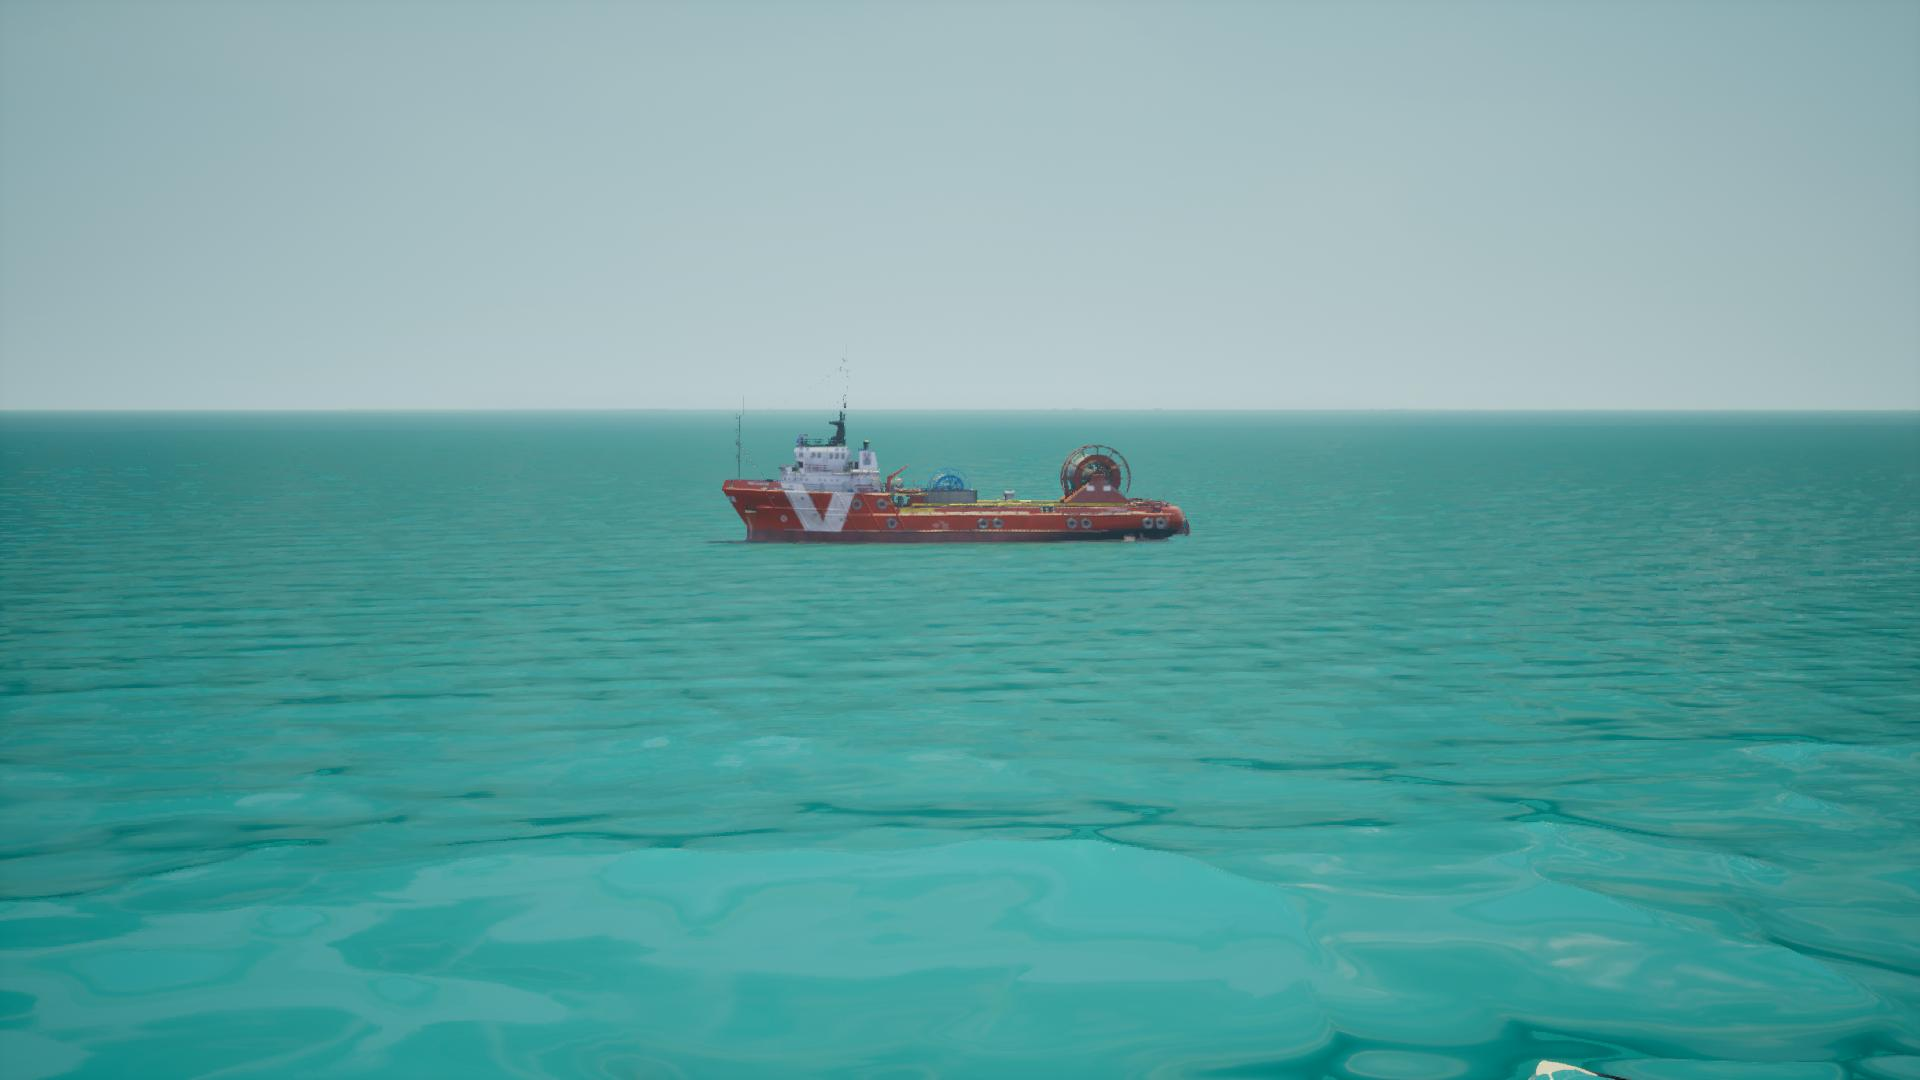Tug Boat: (719, 405, 1185, 551)
